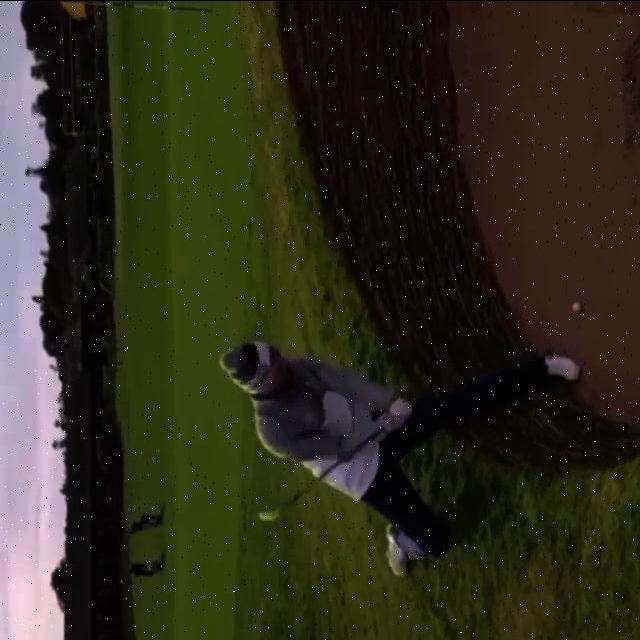golf ball: (572, 301, 581, 310)
golf club-handle: (258, 396, 419, 521)
golf club-head: (259, 508, 283, 520)
